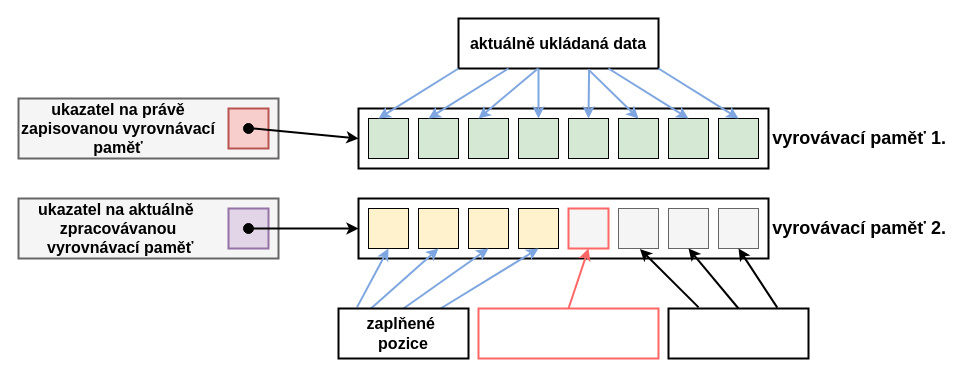
Some shapes in this 965 by 376 pixel diagram are drawn without their labels. The shapes that lost their labels are listed below. From the top down, each one's centre as x and y in pixels, then its label:
the point at 568,333: právě zpracovávaná pozice
the point at 738,333: volné pozice
